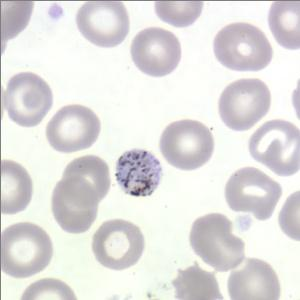Infected: (117, 149, 159, 196)
Uninfected: (189, 211, 244, 272), (224, 166, 281, 220), (249, 119, 300, 177), (218, 77, 270, 132), (0, 221, 51, 277), (214, 22, 271, 71), (52, 175, 98, 234), (159, 119, 212, 170), (47, 104, 101, 153), (129, 26, 181, 75), (92, 220, 144, 268), (76, 0, 129, 47), (7, 72, 52, 127), (228, 258, 281, 300), (67, 157, 109, 201), (0, 160, 32, 214), (269, 0, 300, 51), (154, 0, 203, 27)
